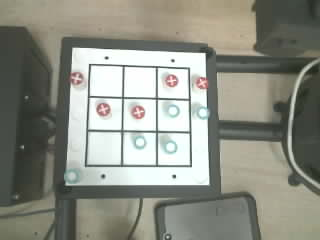blue circle: (64, 169, 79, 183), (164, 140, 177, 153), (167, 104, 179, 117), (196, 107, 209, 119), (134, 136, 146, 149)
board: (65, 48, 209, 185)
cells: (87, 132, 120, 164), (88, 98, 122, 129), (123, 133, 155, 165), (158, 133, 190, 165), (158, 100, 189, 131), (124, 99, 155, 130), (90, 66, 122, 96), (158, 68, 189, 98), (124, 67, 155, 97)
grid: (85, 64, 191, 167)
red cross: (96, 103, 110, 116), (165, 74, 178, 87), (131, 105, 144, 118), (70, 72, 83, 85), (196, 77, 208, 89)
